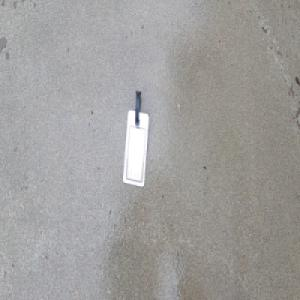LuggageTag: (121, 90, 150, 189)
